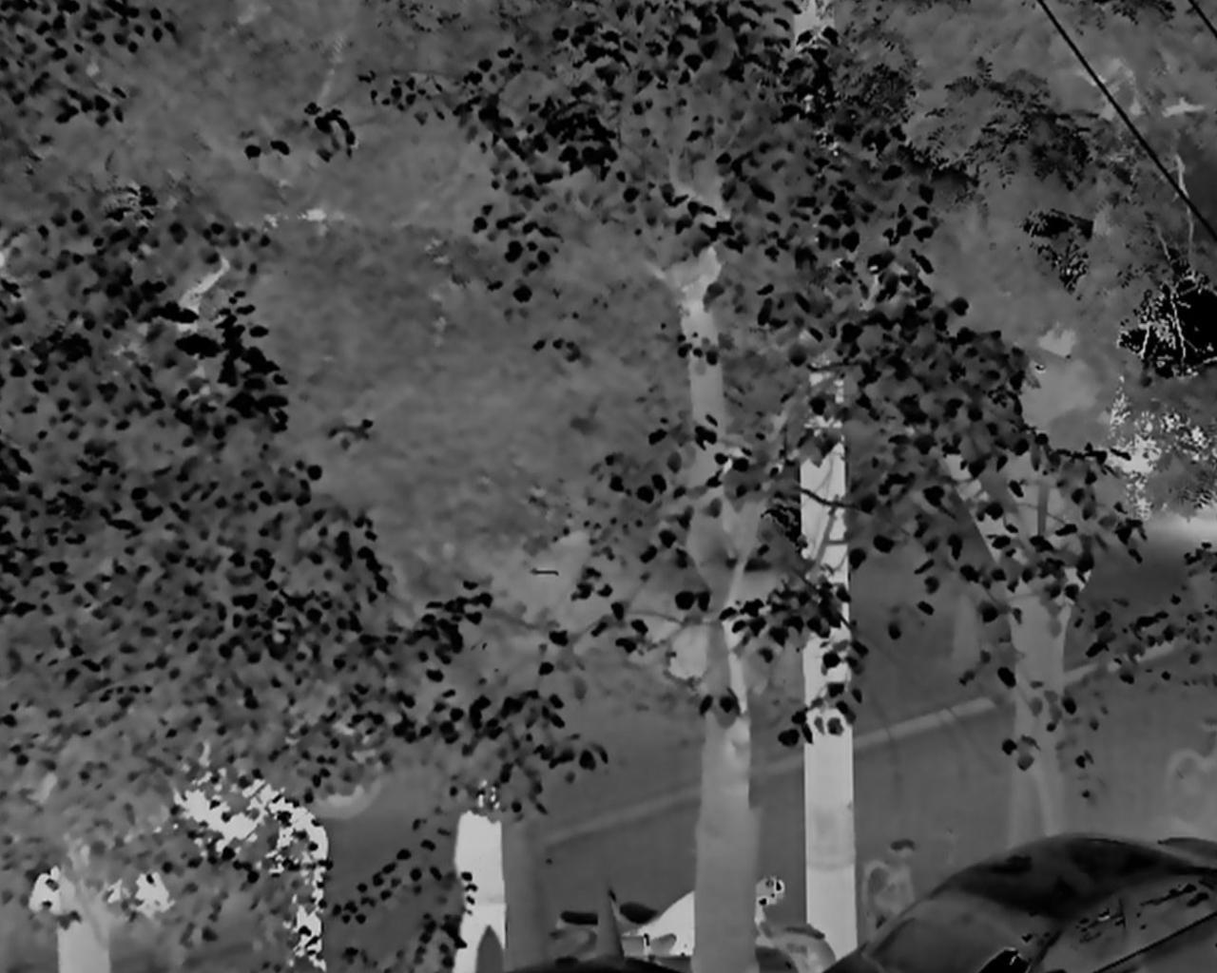person: (265, 799, 329, 973), (456, 779, 506, 973)
